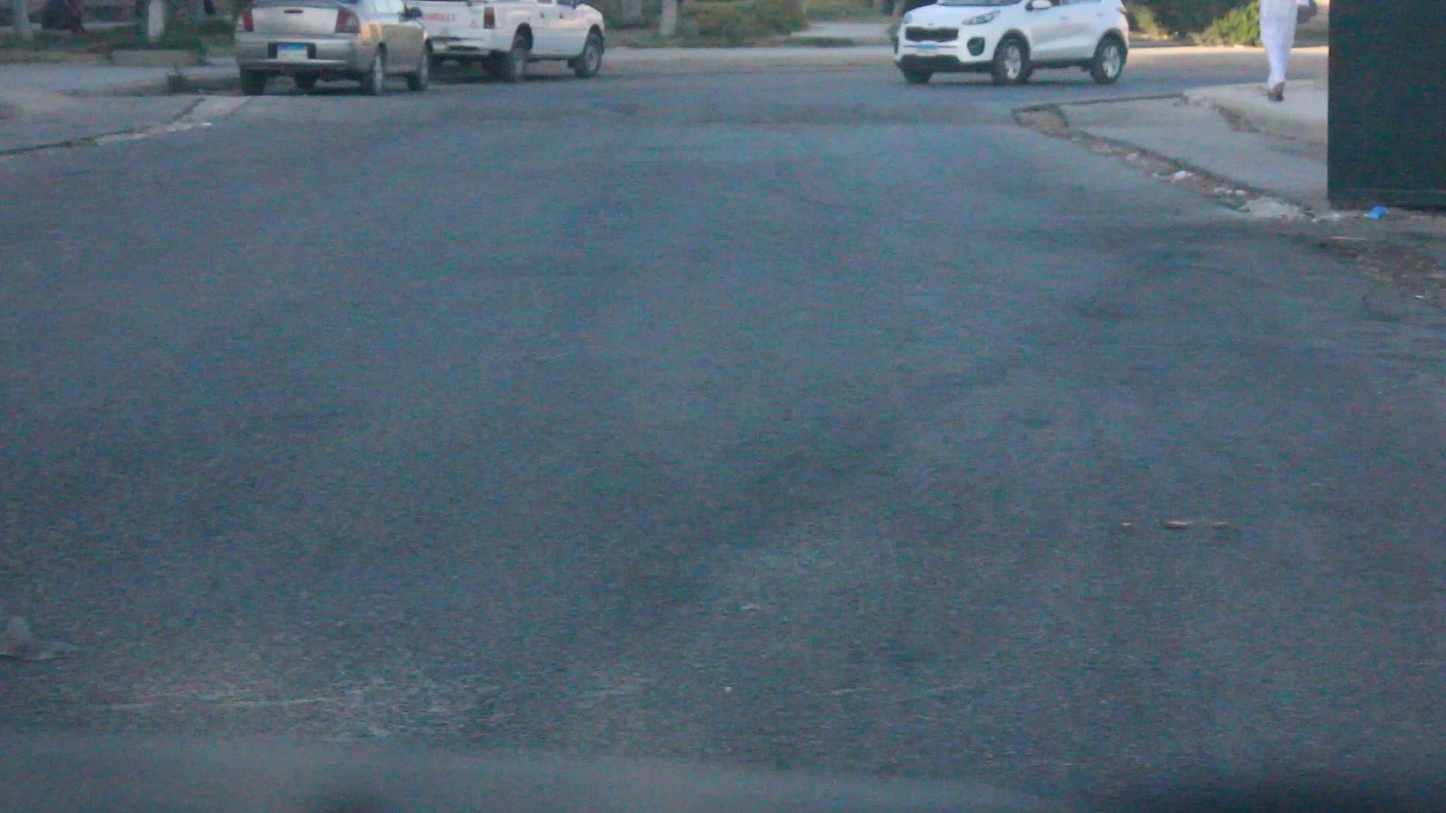Bump: (164, 85, 1032, 142)
